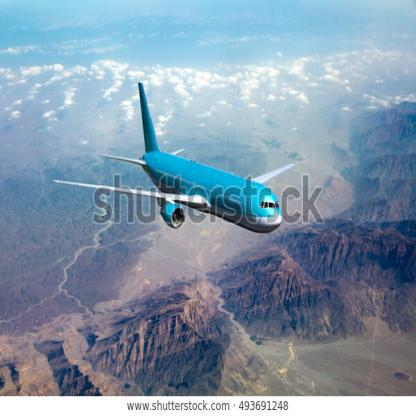CIV_Plane: (39, 66, 307, 266)
